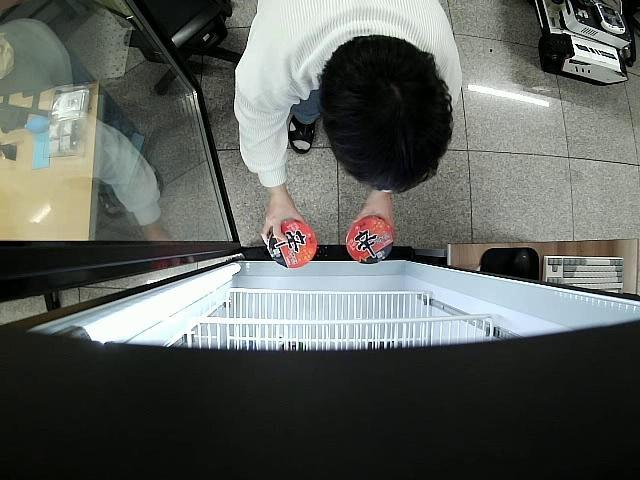01_ShinRamen_L: (267, 220, 316, 268), (344, 218, 394, 264)
